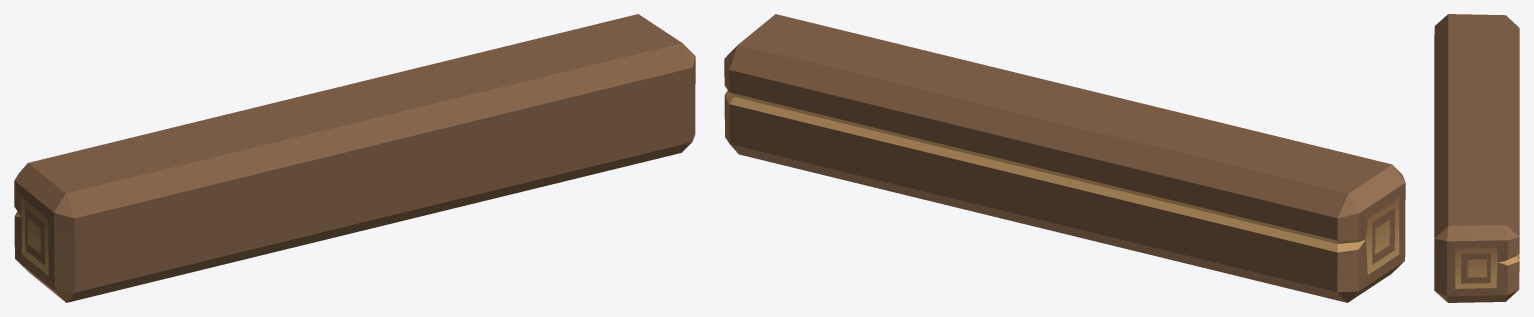
Rendered from wood.fbx.
3 renders of one model, left to right at view 1: azimuth 30°, elevation 25°; view 2: azimuth 150°, elevation 25°; view 3: azimuth 270°, elevation 25°, orthographic. The views are drawn at different scales.
Parts seen in each view (by area): view 1: desert_3; view 2: desert_3; view 3: desert_3.
Part boxes in pixels (<box>): desert_3: <box>14,14,695,302</box>; desert_3: <box>724,14,1405,302</box>; desert_3: <box>1434,14,1519,302</box>.
Size of the model in its own units: 349 by 56.97 by 56.92.
